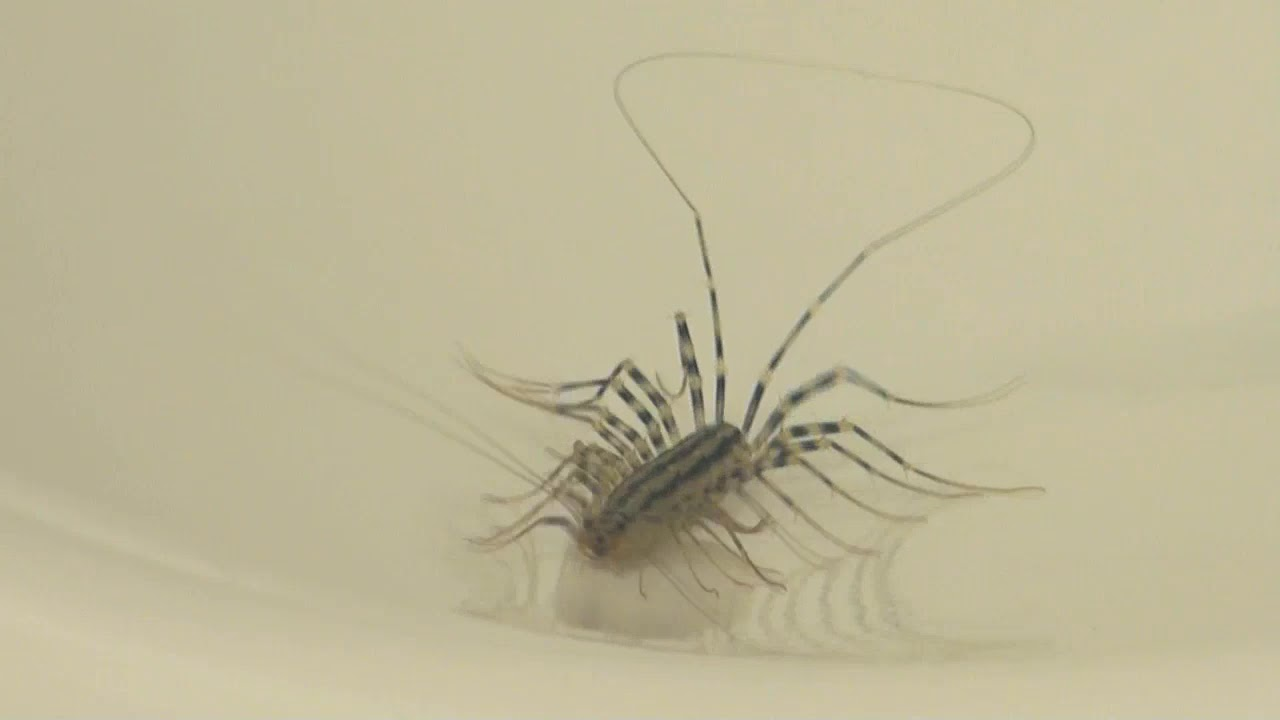centipede: (399, 125, 1082, 625)
